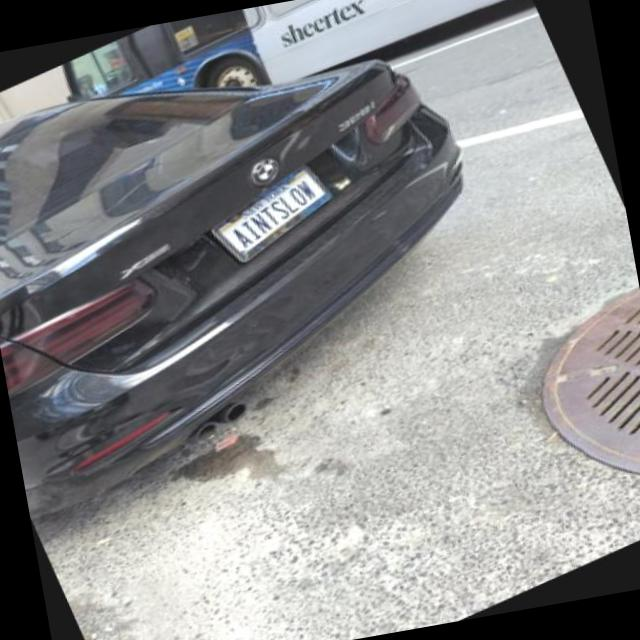LicensePlate: (208, 163, 337, 265)
